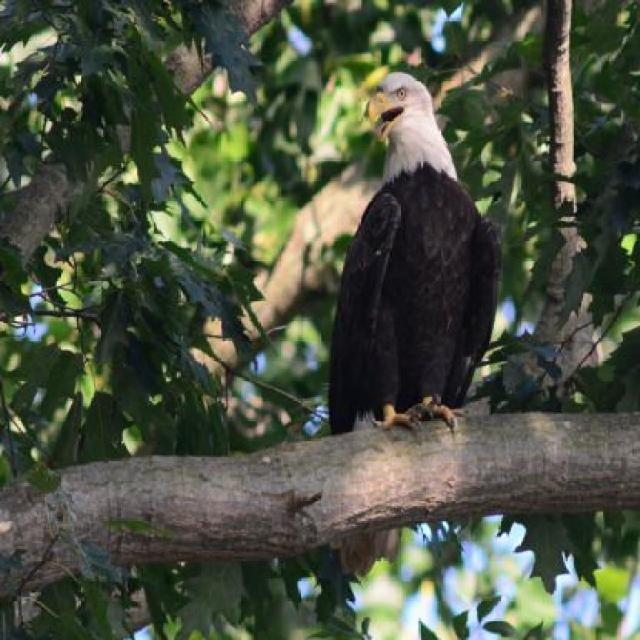Eagle: (325, 68, 501, 434)
